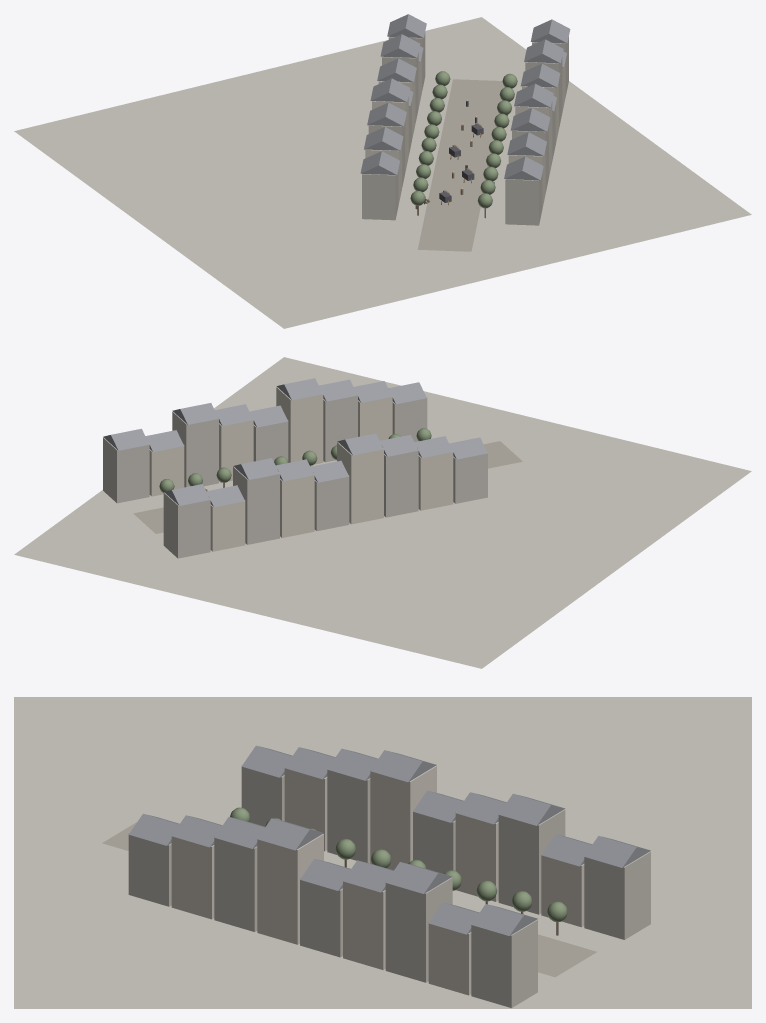
3 renders of one model, top to bottom at view 1: azimuth 30°, elevation 25°; view 2: azimuth 150°, elevation 25°; view 3: azimuth 270°, elevation 25°, orthographic. The views are drawn at different scales.
Parts seen in each view (by area): view 1: ground, road, sidewalk_l, sidewalk_r, bld_r0, bld_l0, bld_r0_roof, bld_l2_roof, bld_r3_roof, bld_r6_roof, bld_l3_roof, bld_r2_roof (+8 smaller); view 2: ground, bld_l3, bld_l8, bld_l6, bld_r8, bld_r3, bld_r6, bld_l2, bld_l5, bld_l1, bld_l4, bld_r2 (+28 smaller); view 3: ground, bld_l8, bld_r8, bld_r3, bld_r6, bld_l6, bld_l3, bld_r2, bld_l2, bld_r5, bld_r1, bld_l5 (+28 smaller).
Boxes of the visible parts, x1,y1,x2,y2 form: ground: (14, 17, 751, 328); road: (418, 79, 504, 251); sidewalk_l: (391, 78, 452, 249); sidewalk_r: (471, 81, 521, 252); bld_r0: (505, 174, 542, 225); bld_l0: (362, 169, 398, 220); bld_r0_roof: (504, 156, 543, 180); bld_l2_roof: (367, 102, 406, 126); bld_r3_roof: (514, 83, 553, 107); bld_r6_roof: (524, 39, 563, 63); bld_l3_roof: (370, 78, 409, 102); bld_r2_roof: (510, 108, 550, 131); ground: (14, 357, 751, 668); bld_l3: (337, 442, 383, 524); bld_l8: (163, 492, 210, 558); bld_l6: (233, 466, 279, 544); bld_r8: (103, 437, 149, 503); bld_r3: (276, 387, 323, 464); bld_r6: (172, 411, 218, 487); bld_l2: (384, 449, 418, 517); bld_l5: (280, 474, 314, 537); bld_l1: (418, 451, 453, 510); bld_l4: (314, 475, 349, 530); bld_r2: (323, 394, 357, 462); ground: (14, 697, 751, 1008); bld_l8: (584, 851, 650, 939); bld_r8: (471, 919, 537, 1007); bld_r3: (257, 834, 323, 944); bld_r6: (385, 877, 452, 982); bld_l6: (498, 809, 565, 914); bld_l3: (370, 766, 436, 870); bld_r2: (214, 836, 257, 931); bld_l2: (327, 768, 370, 862); bld_r5: (343, 880, 385, 969); bld_r1: (171, 835, 214, 919); bld_l5: (455, 812, 498, 901).
Size of the model in its own units: 120 by 19.22 by 120.
